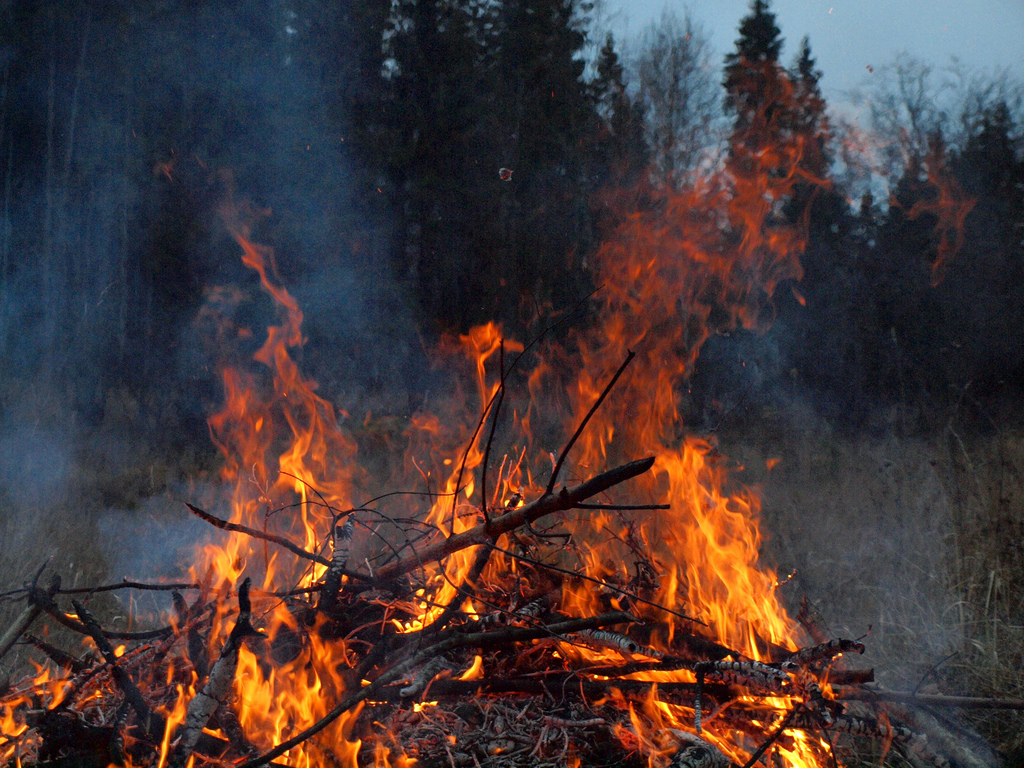fire: (162, 257, 803, 768)
